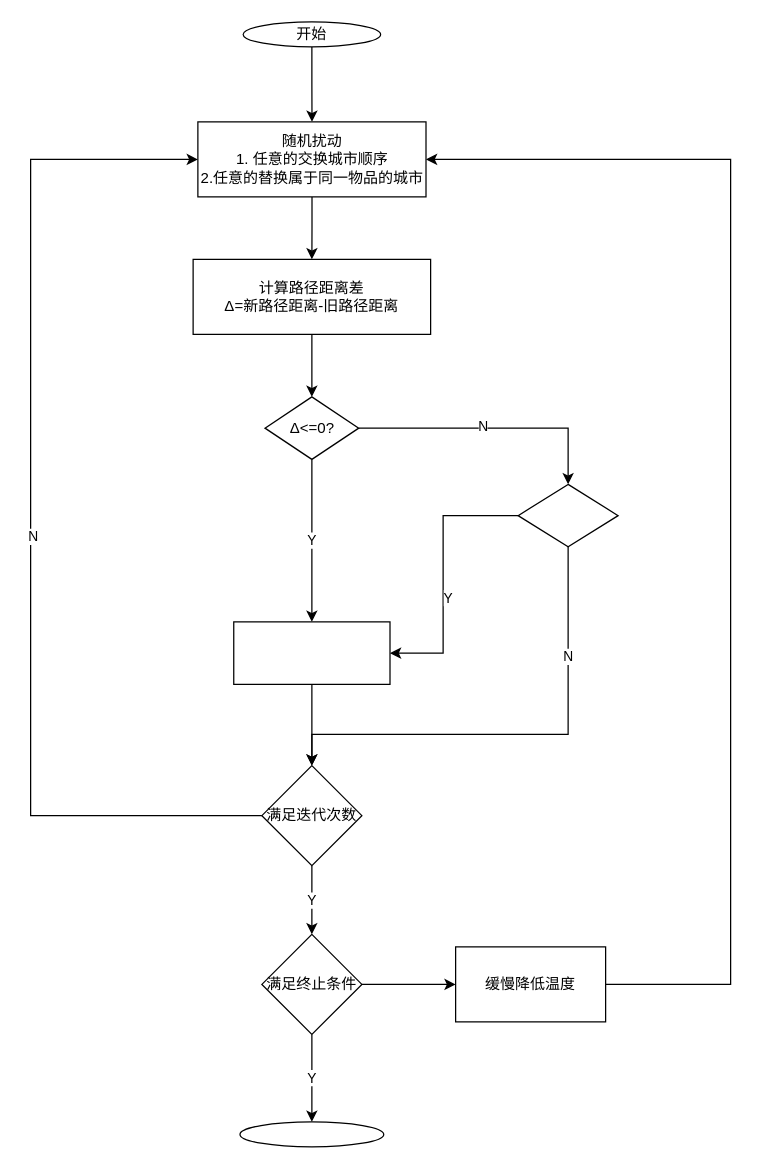
This 763x1169 diagram has some shape labels left out. Here are the shapes that lost their labels. From the top down, the centre of each, then its label:
At (x=567, y=515): "Metrosplit准则".
At (x=311, y=652): "接受新解".
At (x=311, y=1134): "退出".
